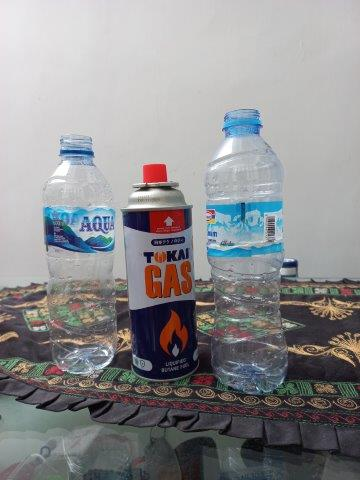botolplastik: (205, 108, 288, 393), (41, 134, 114, 373)
